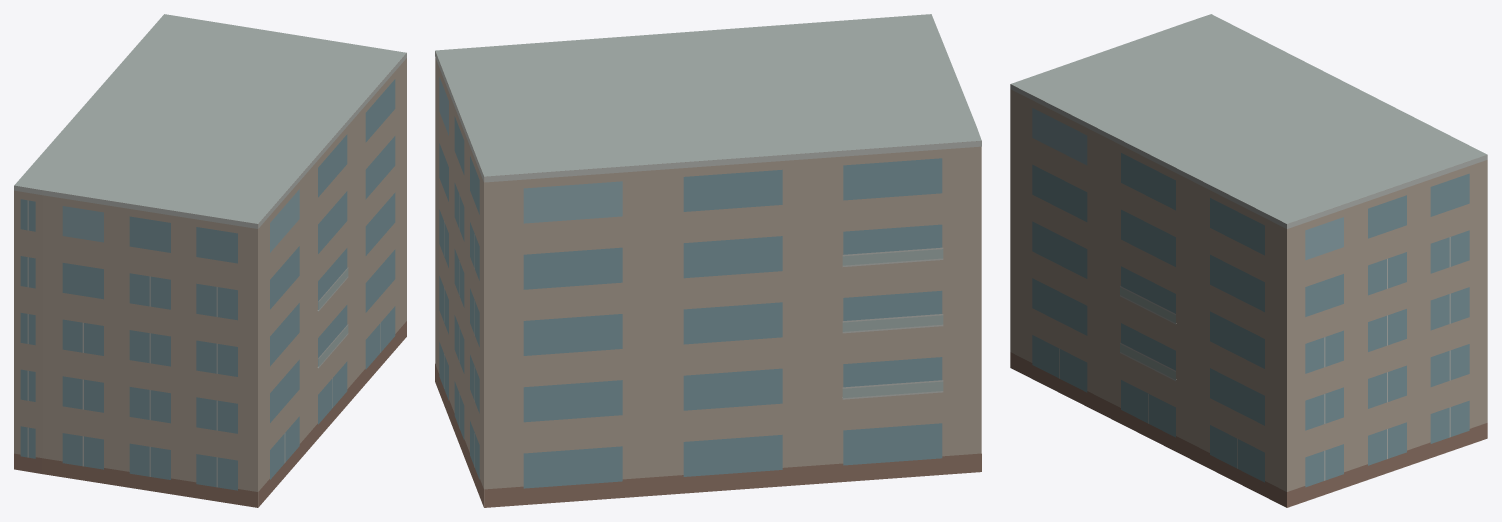
File: survey-upis-33044379.glb
3 views of the same model, side by side, from view 1: azimuth 30°, elevation 25°; view 2: azimuth 150°, elevation 25°; view 3: azimuth 270°, elevation 25° (orthographic). The views are drawn at different scales.
Visible parts, largest first — view 1: survey-upis-33044379.tmp; view 2: survey-upis-33044379.tmp; view 3: survey-upis-33044379.tmp.
Boxes of the visible parts, x1,y1,x2,y2 form: survey-upis-33044379.tmp: [14, 14, 406, 507]; survey-upis-33044379.tmp: [435, 14, 981, 507]; survey-upis-33044379.tmp: [1010, 14, 1487, 507].
Bounding box in the file's own units: 21.76 × 13.7 × 20.88.
